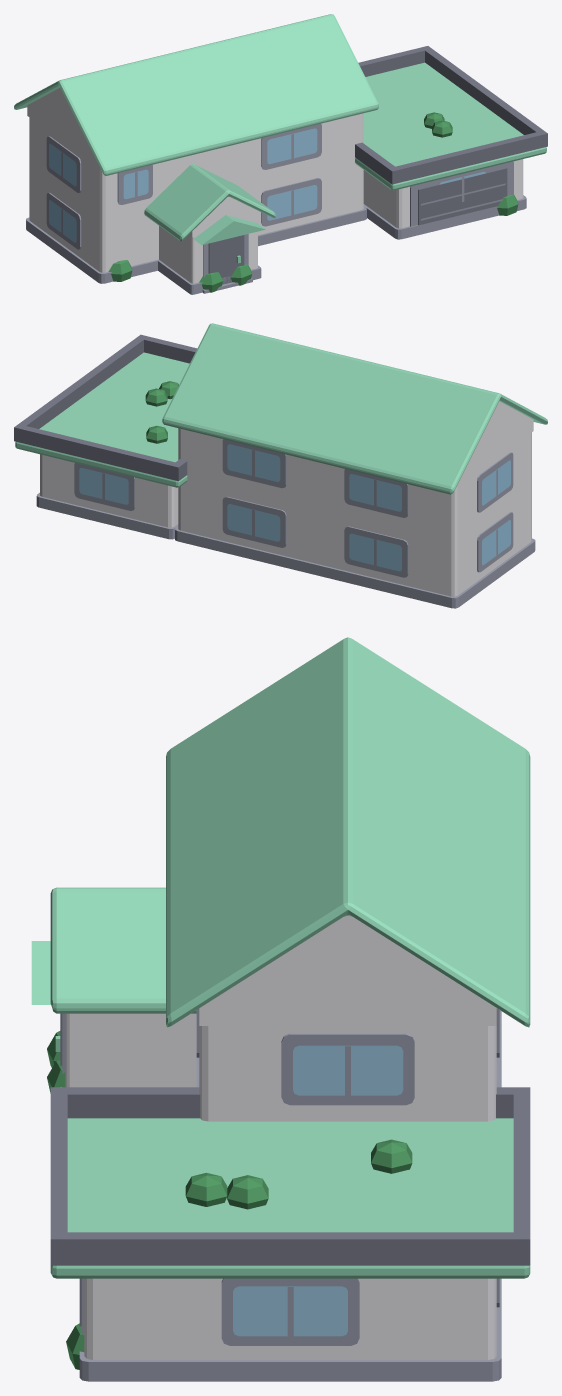
File: house-2x1-2f-tone-a.glb
3 renders of one model, top to bottom at view 1: azimuth 30°, elevation 25°; view 2: azimuth 150°, elevation 25°; view 3: azimuth 270°, elevation 25°, orthographic. The views are drawn at different scales.
Visible parts, largest first — view 1: house-2x1-2f-tone-a; view 2: house-2x1-2f-tone-a; view 3: house-2x1-2f-tone-a.
Part boxes in pixels (bbox=[...]): house-2x1-2f-tone-a: bbox=[14, 14, 547, 294]; house-2x1-2f-tone-a: bbox=[14, 323, 547, 608]; house-2x1-2f-tone-a: bbox=[31, 637, 530, 1381].
Bounding box in the file's own units: 2 × 0.8122 × 1.04.
Materials: 1 (1 with a texture image).
